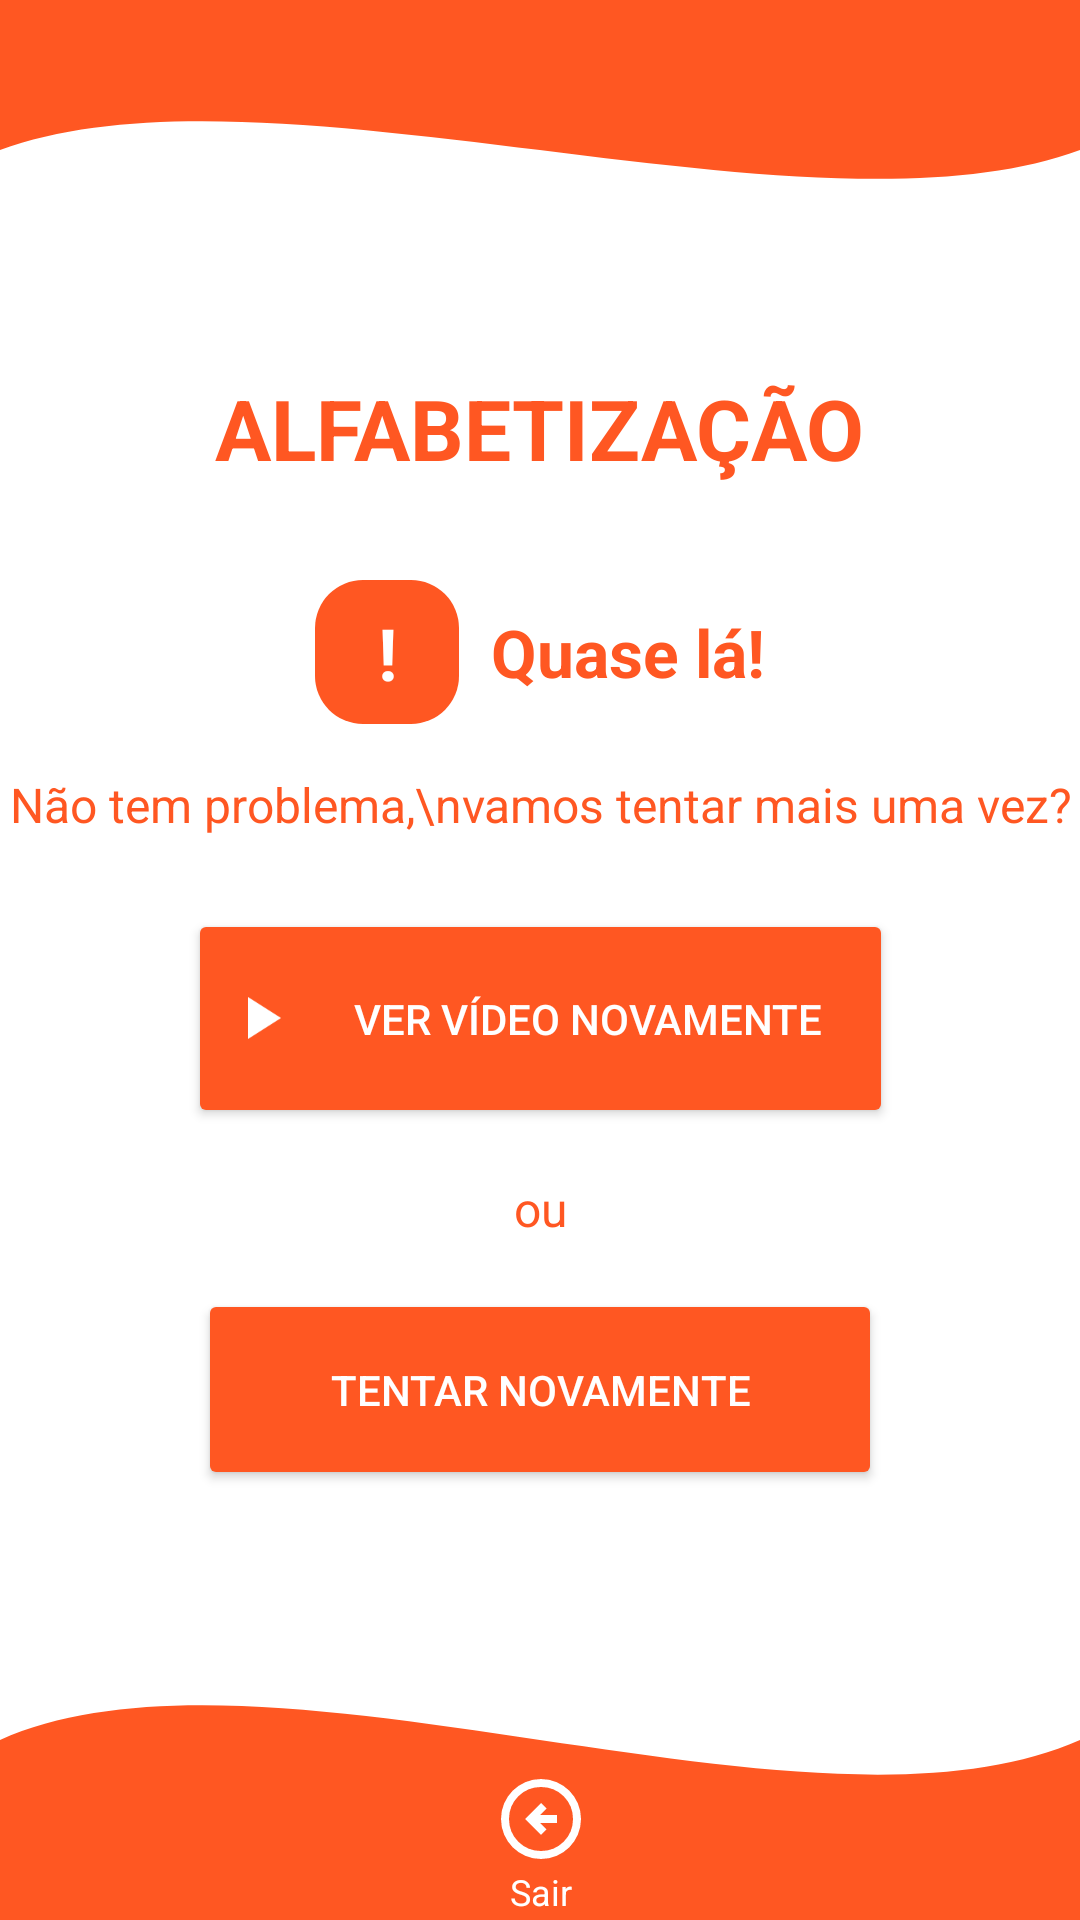

Point at icon controls on the screen. Image size 1080px×1920px, points as point (x, y).
arrow circle left: point (541, 1819)
